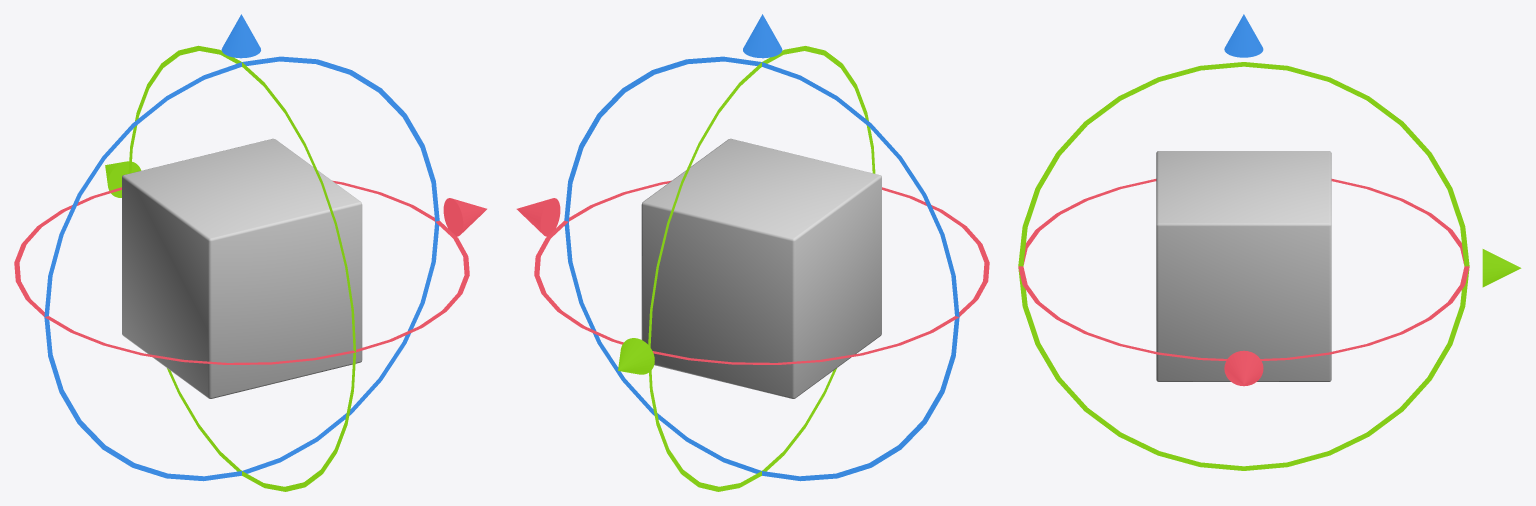
Rendered from default_player.glb.
The picture shows the model from 3 angles, left to right: view 1: azimuth 30°, elevation 25°; view 2: azimuth 150°, elevation 25°; view 3: azimuth 270°, elevation 25°; orthographic projection.
Visible parts, largest first — view 1: default_player, Circle; view 2: default_player, Circle; view 3: default_player, Circle.
Part boxes in pixels (box(x1,y1,x2,y2)): default_player: box(122, 138, 362, 398); Circle: box(14, 14, 486, 491); default_player: box(641, 138, 881, 398); Circle: box(516, 14, 989, 491); default_player: box(1156, 151, 1331, 381); Circle: box(1018, 14, 1521, 470).
Bounding box in the file's own units: 5.77 × 5.74 × 5.74.
